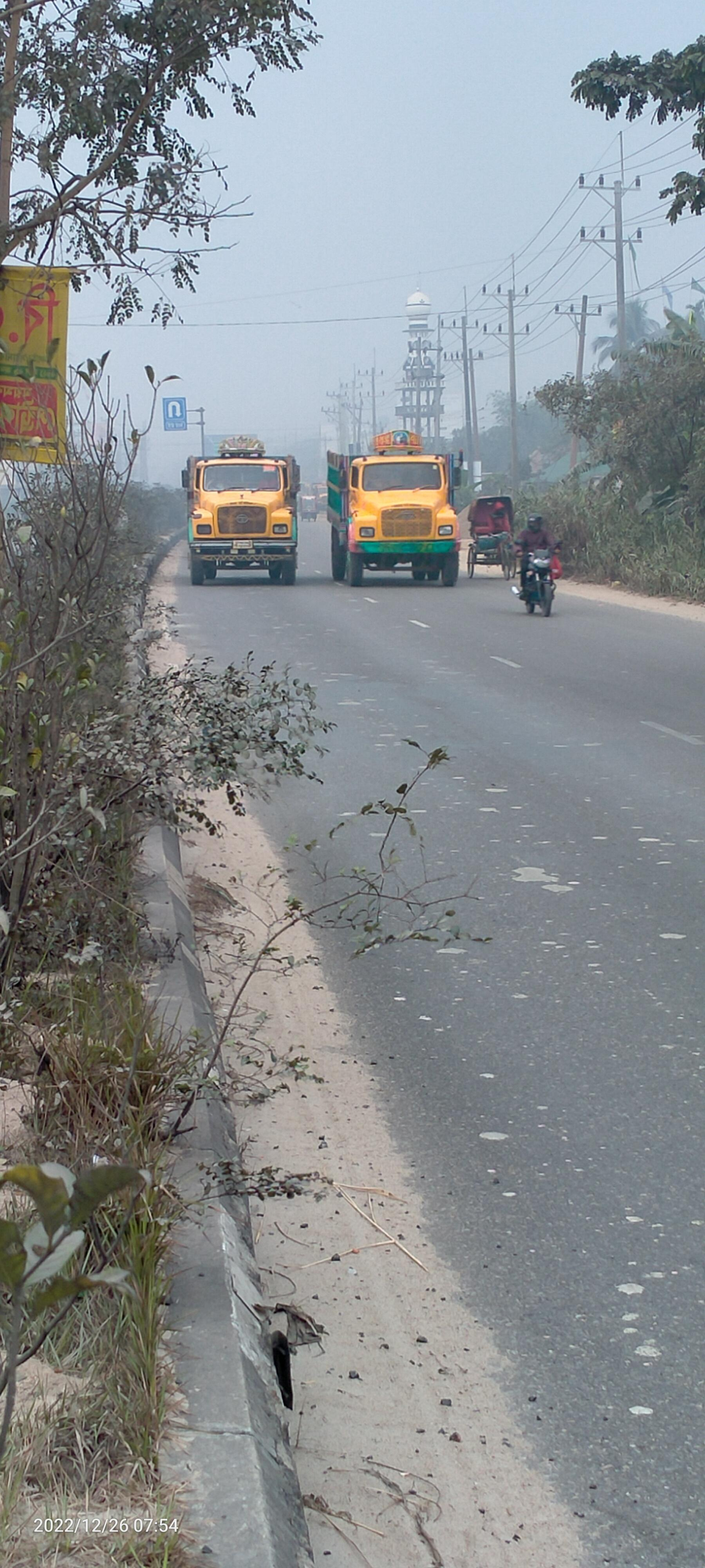Bike: (514, 516, 563, 621)
Car: (458, 486, 532, 584)
Truck: (323, 412, 476, 588), (168, 429, 316, 604)
